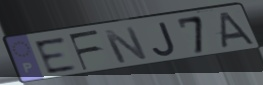7: (175, 15, 206, 55)
A: (217, 10, 258, 50)
E: (32, 35, 80, 76)
F: (67, 28, 104, 73)
J: (151, 21, 179, 58)
N: (100, 25, 151, 65)
